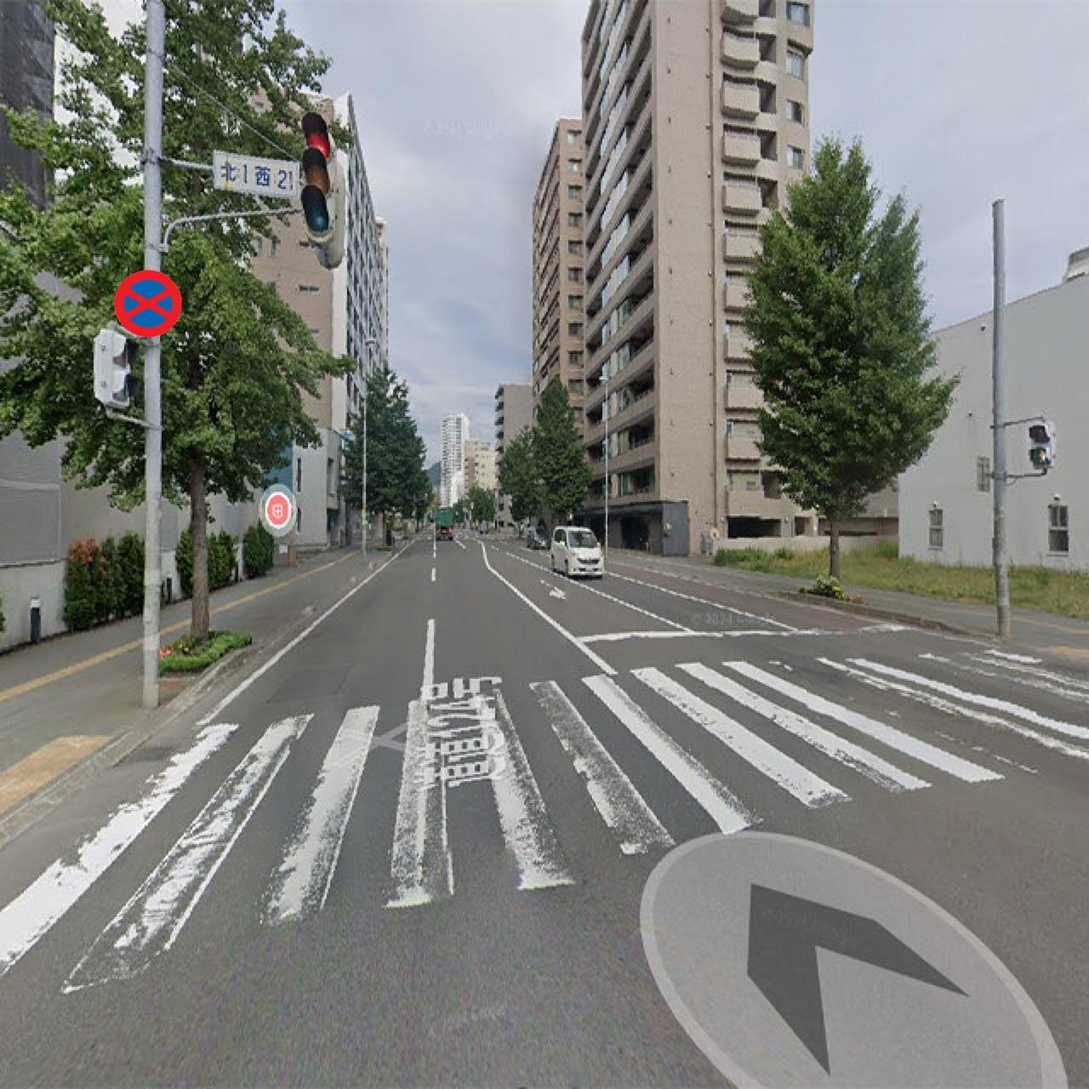stop_sign: (111, 264, 185, 339)
